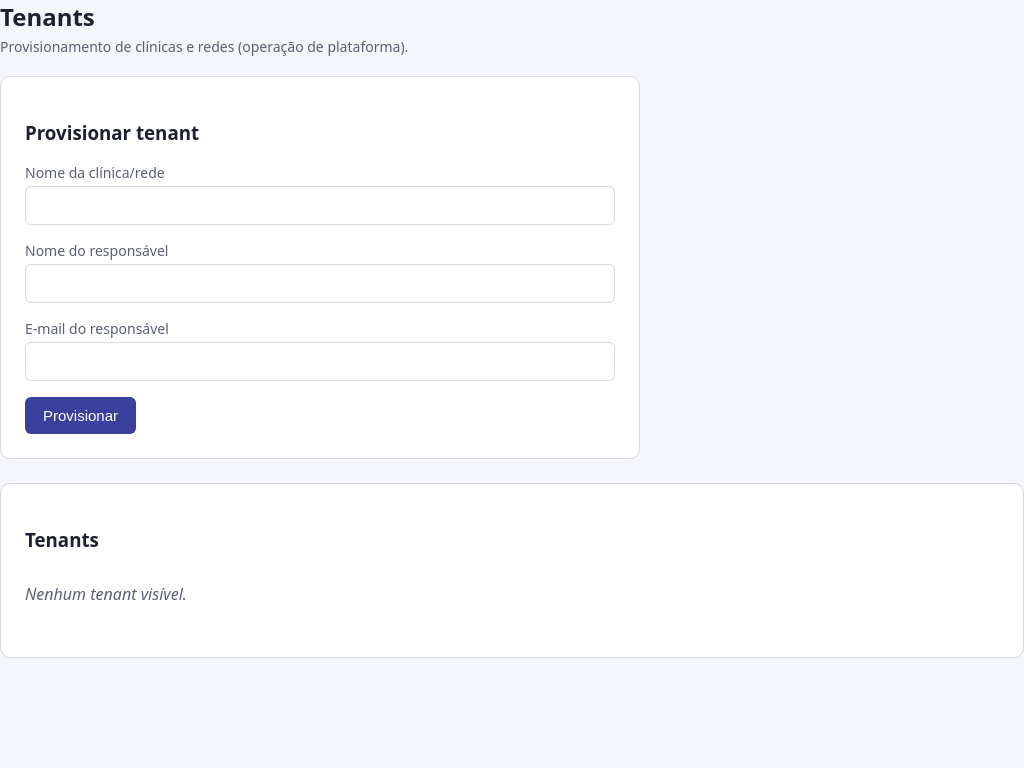
Scenario: TenantsPage › provisiona um tenant e mostra confirmacao
Expected: the form labelled "Provisionar tenant" is shown, [0, 76, 640, 459]
Type "Clinica Nova" into the field labelled "Nome da clínica/rede" at (320, 206), box [25, 186, 615, 225]
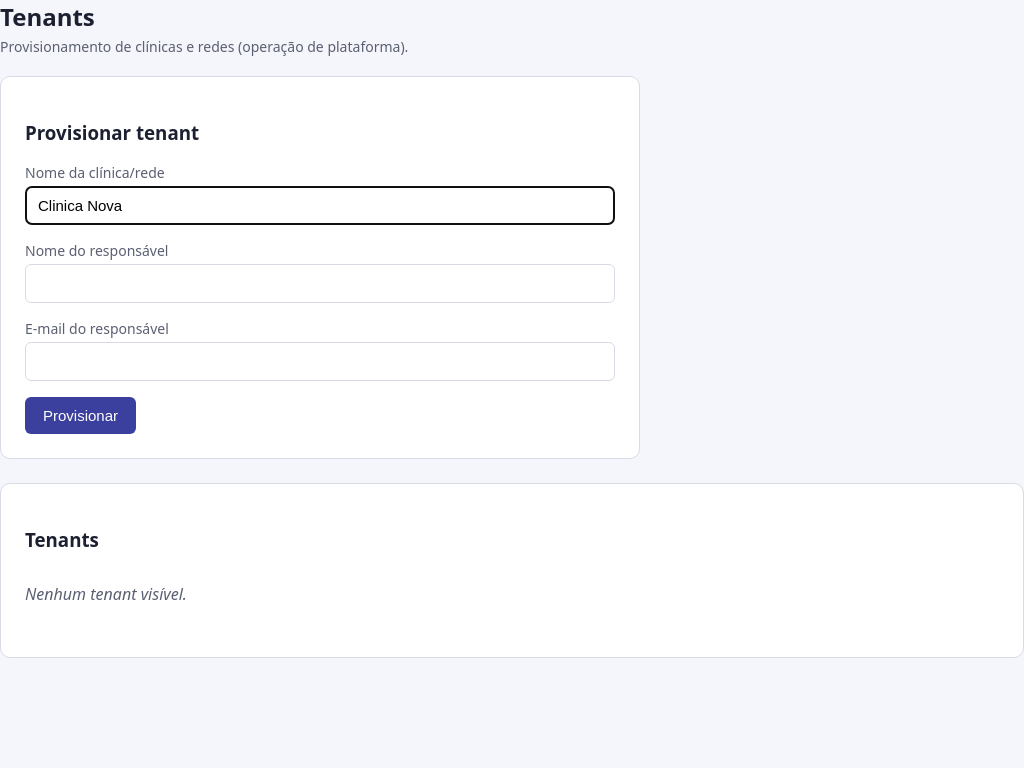
Type "Dono" into the field labelled "Nome do responsável" at (320, 284), box [25, 264, 615, 303]
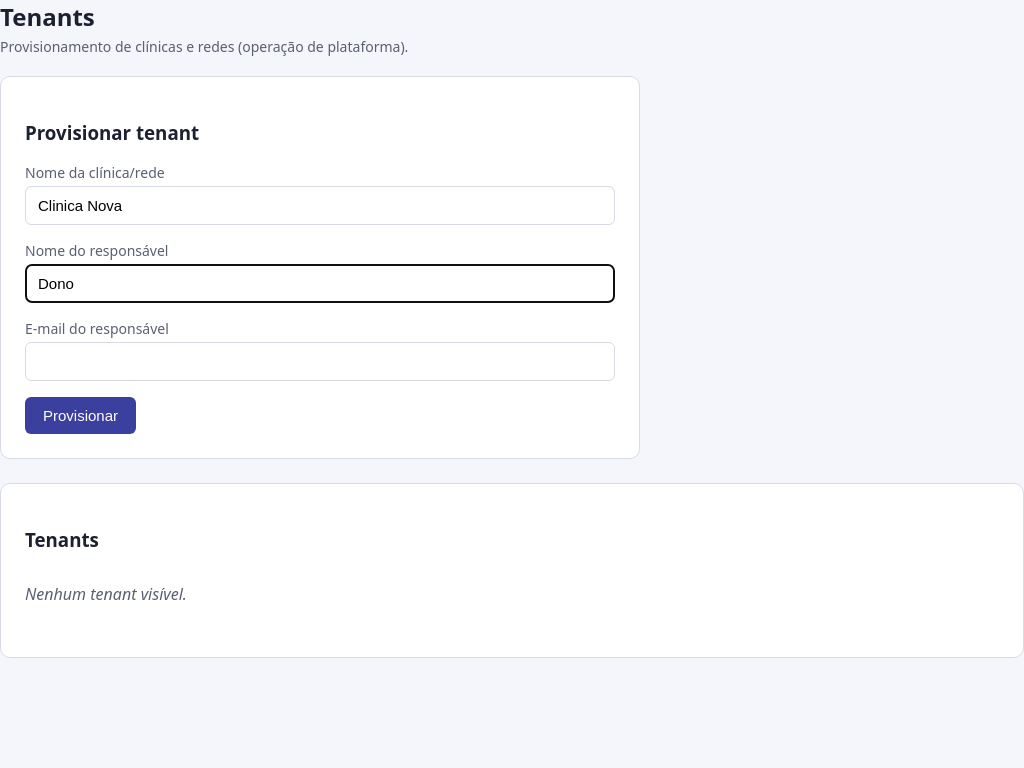
Type "dono@clinica.com" into the field labelled "E-mail do responsável" at (320, 362), box [25, 342, 615, 381]
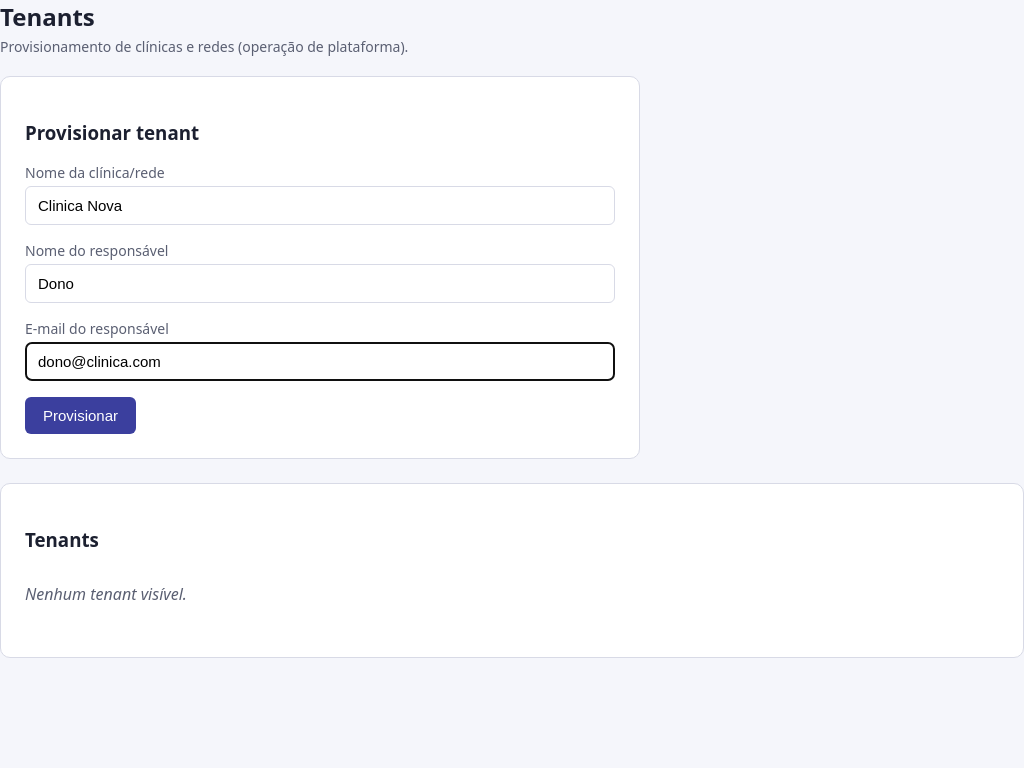
Click the button "Provisionar" at (80, 416), box [25, 397, 136, 434]
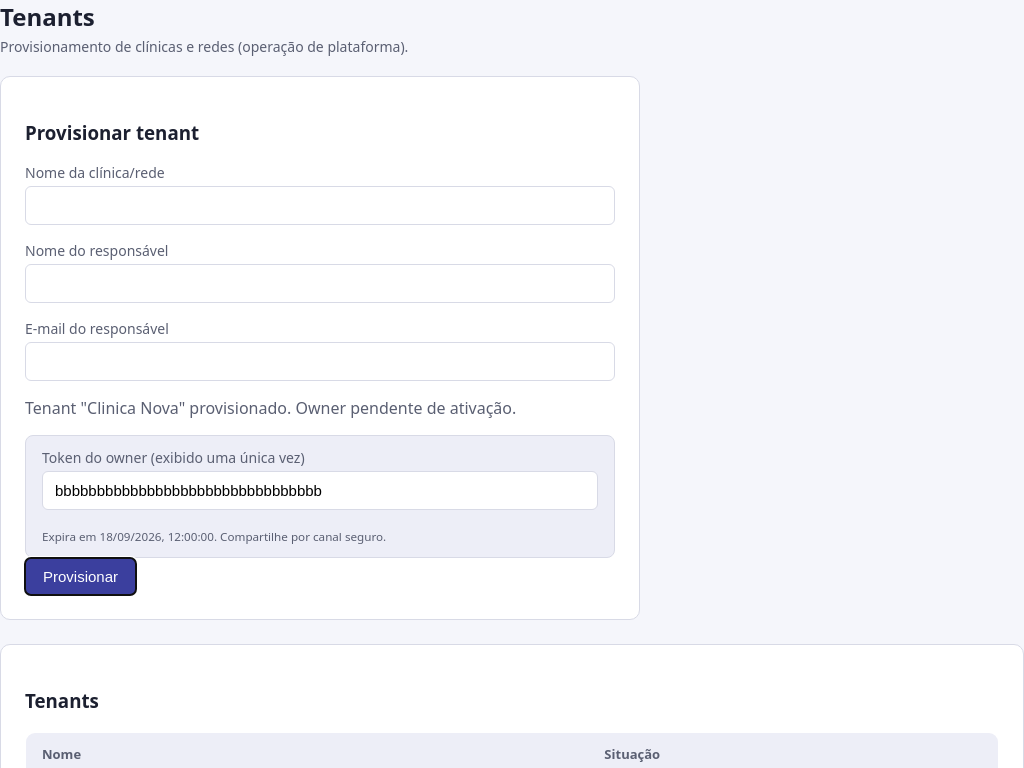
Now the text "Tenant \"Clinica Nova\" provisionado. Owner pendente de ativação." is shown, box [25, 397, 516, 419]
